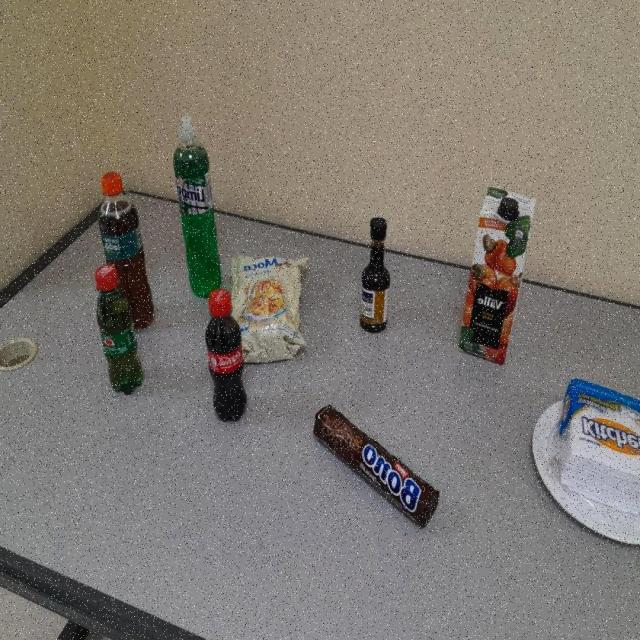Cleaner: (170, 116, 224, 297)
Coke: (204, 289, 245, 420)
Cookies: (310, 406, 437, 537)
CornFlakes: (230, 248, 308, 364)
EnglishSauce: (358, 219, 390, 333)
Guarana: (96, 266, 142, 394)
IceTea: (98, 172, 154, 329)
